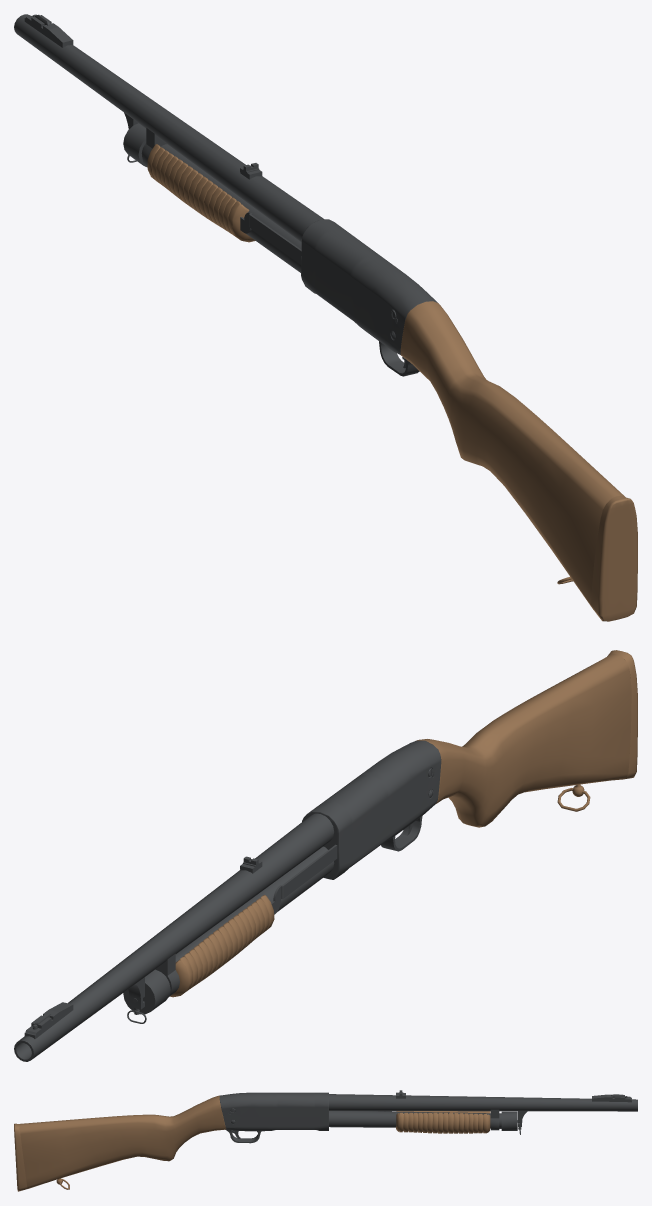
Rendered from pump.glb.
3 views of the same model, one above another, from view 1: azimuth 30°, elevation 25°; view 2: azimuth 150°, elevation 25°; view 3: azimuth 270°, elevation 25° (orthographic). The views are drawn at different scales.
Visible parts, largest first — view 1: Stock_lowpoly, Barrel_lowpoly, Body_lowpoly, Forend_lowpoly, ForendSlider_lowpoly; view 2: Stock_lowpoly, Barrel_lowpoly, Body_lowpoly, Forend_lowpoly, ForendSlider_lowpoly; view 3: Stock_lowpoly, Barrel_lowpoly, Body_lowpoly, Forend_lowpoly.
Part boxes in pixels (x1,y1,x2,y2): Stock_lowpoly: [400, 301, 637, 621]; Barrel_lowpoly: [14, 14, 323, 272]; Body_lowpoly: [301, 219, 437, 376]; Forend_lowpoly: [147, 144, 255, 242]; ForendSlider_lowpoly: [240, 212, 301, 263]; Stock_lowpoly: [416, 650, 637, 827]; Barrel_lowpoly: [14, 813, 334, 1061]; Body_lowpoly: [302, 740, 441, 879]; Forend_lowpoly: [170, 895, 274, 997]; ForendSlider_lowpoly: [271, 844, 337, 914]; Stock_lowpoly: [14, 1095, 226, 1191]; Barrel_lowpoly: [329, 1090, 637, 1134]; Body_lowpoly: [219, 1092, 328, 1143]; Forend_lowpoly: [396, 1111, 490, 1133].
Size of the model in its own units: 0.0385 by 0.1532 by 0.8938.
